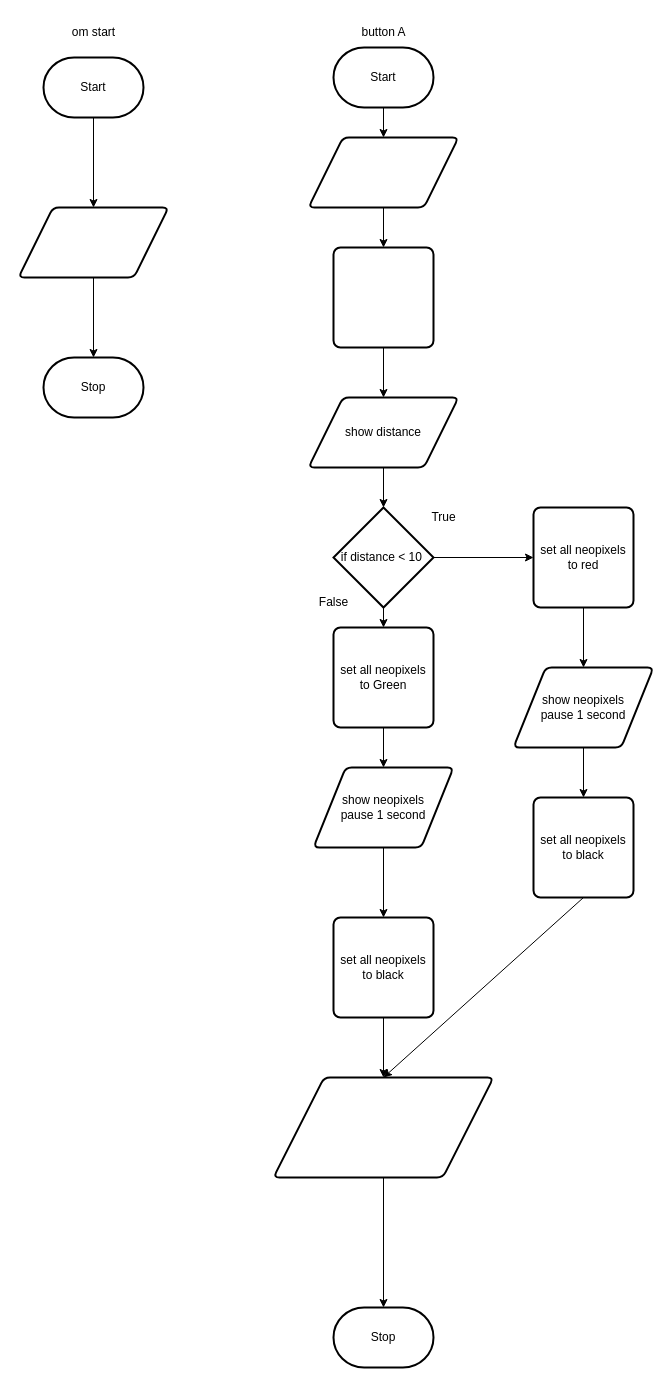
Some shapes in this 671 by 1385 pixel diagram are drawn without their labels. Each missing label, with the centre of its shape:
"clear screen" goes at (383,172).
"clear screen display Happy face" goes at (93,242).
"distance = find distance from object in cm" goes at (383,297).
"show neopixels pause 1 second display happy facxe" goes at (383,1127).
